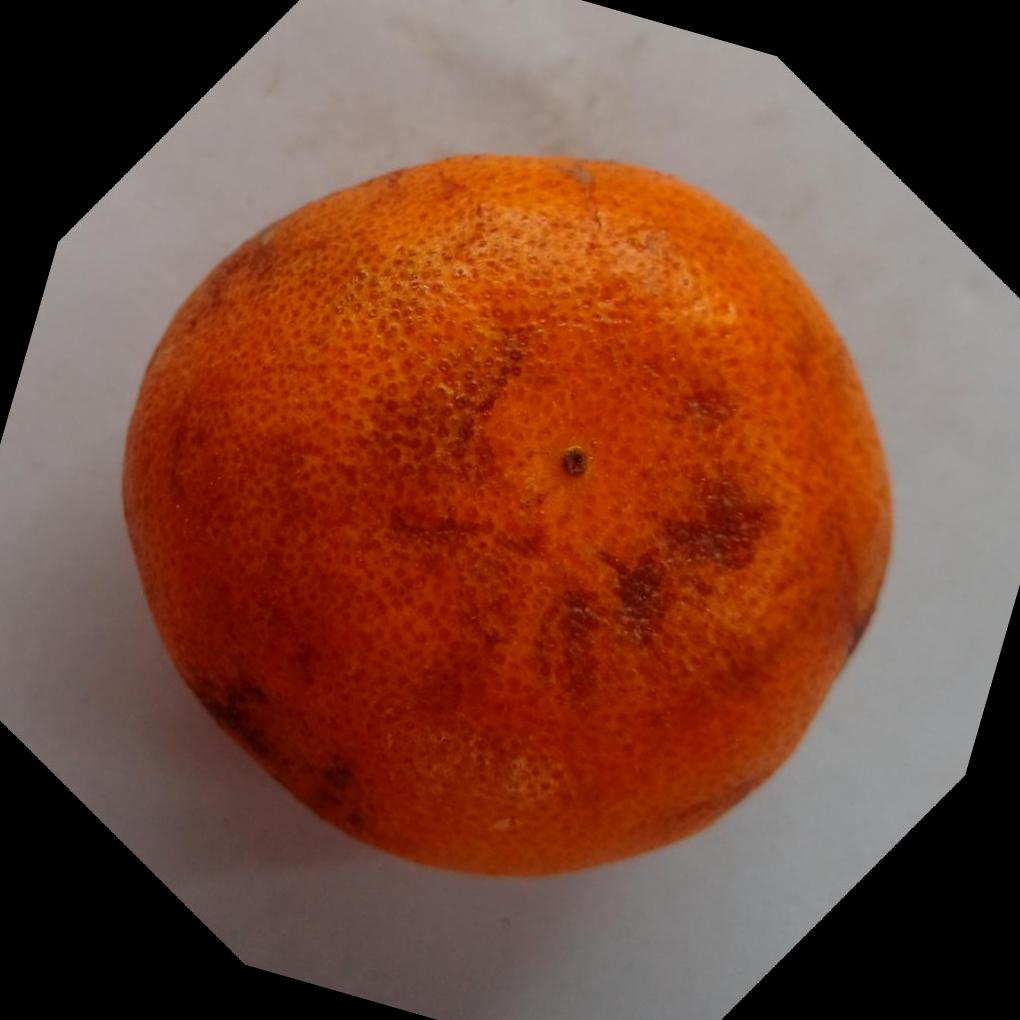FreshOrange: (115, 150, 892, 879)
